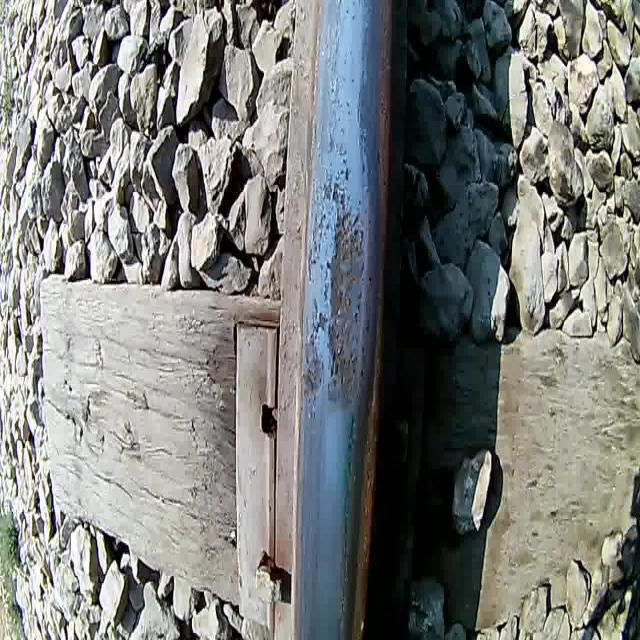Cracks: (304, 241, 316, 287)
Spallings: (311, 276, 366, 390), (310, 180, 368, 264)
Squats: (296, 130, 372, 416)
